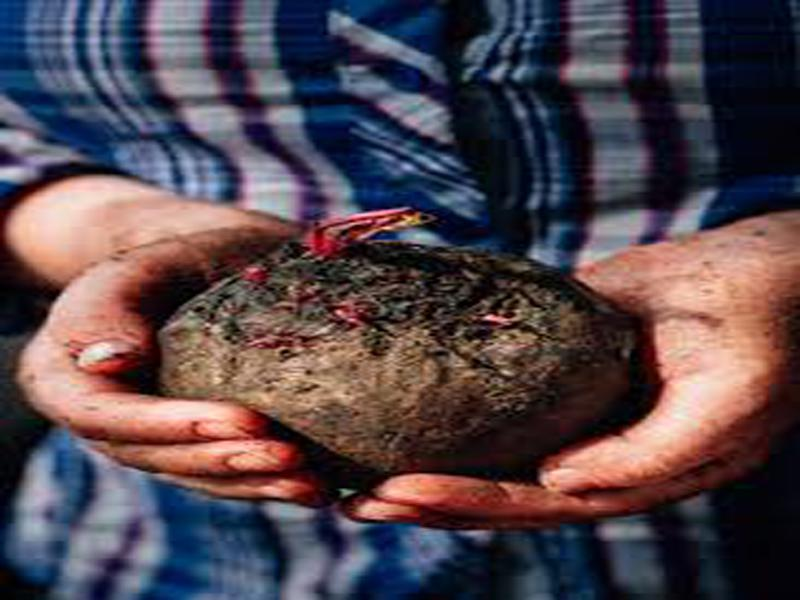Beet: (157, 205, 643, 478)
